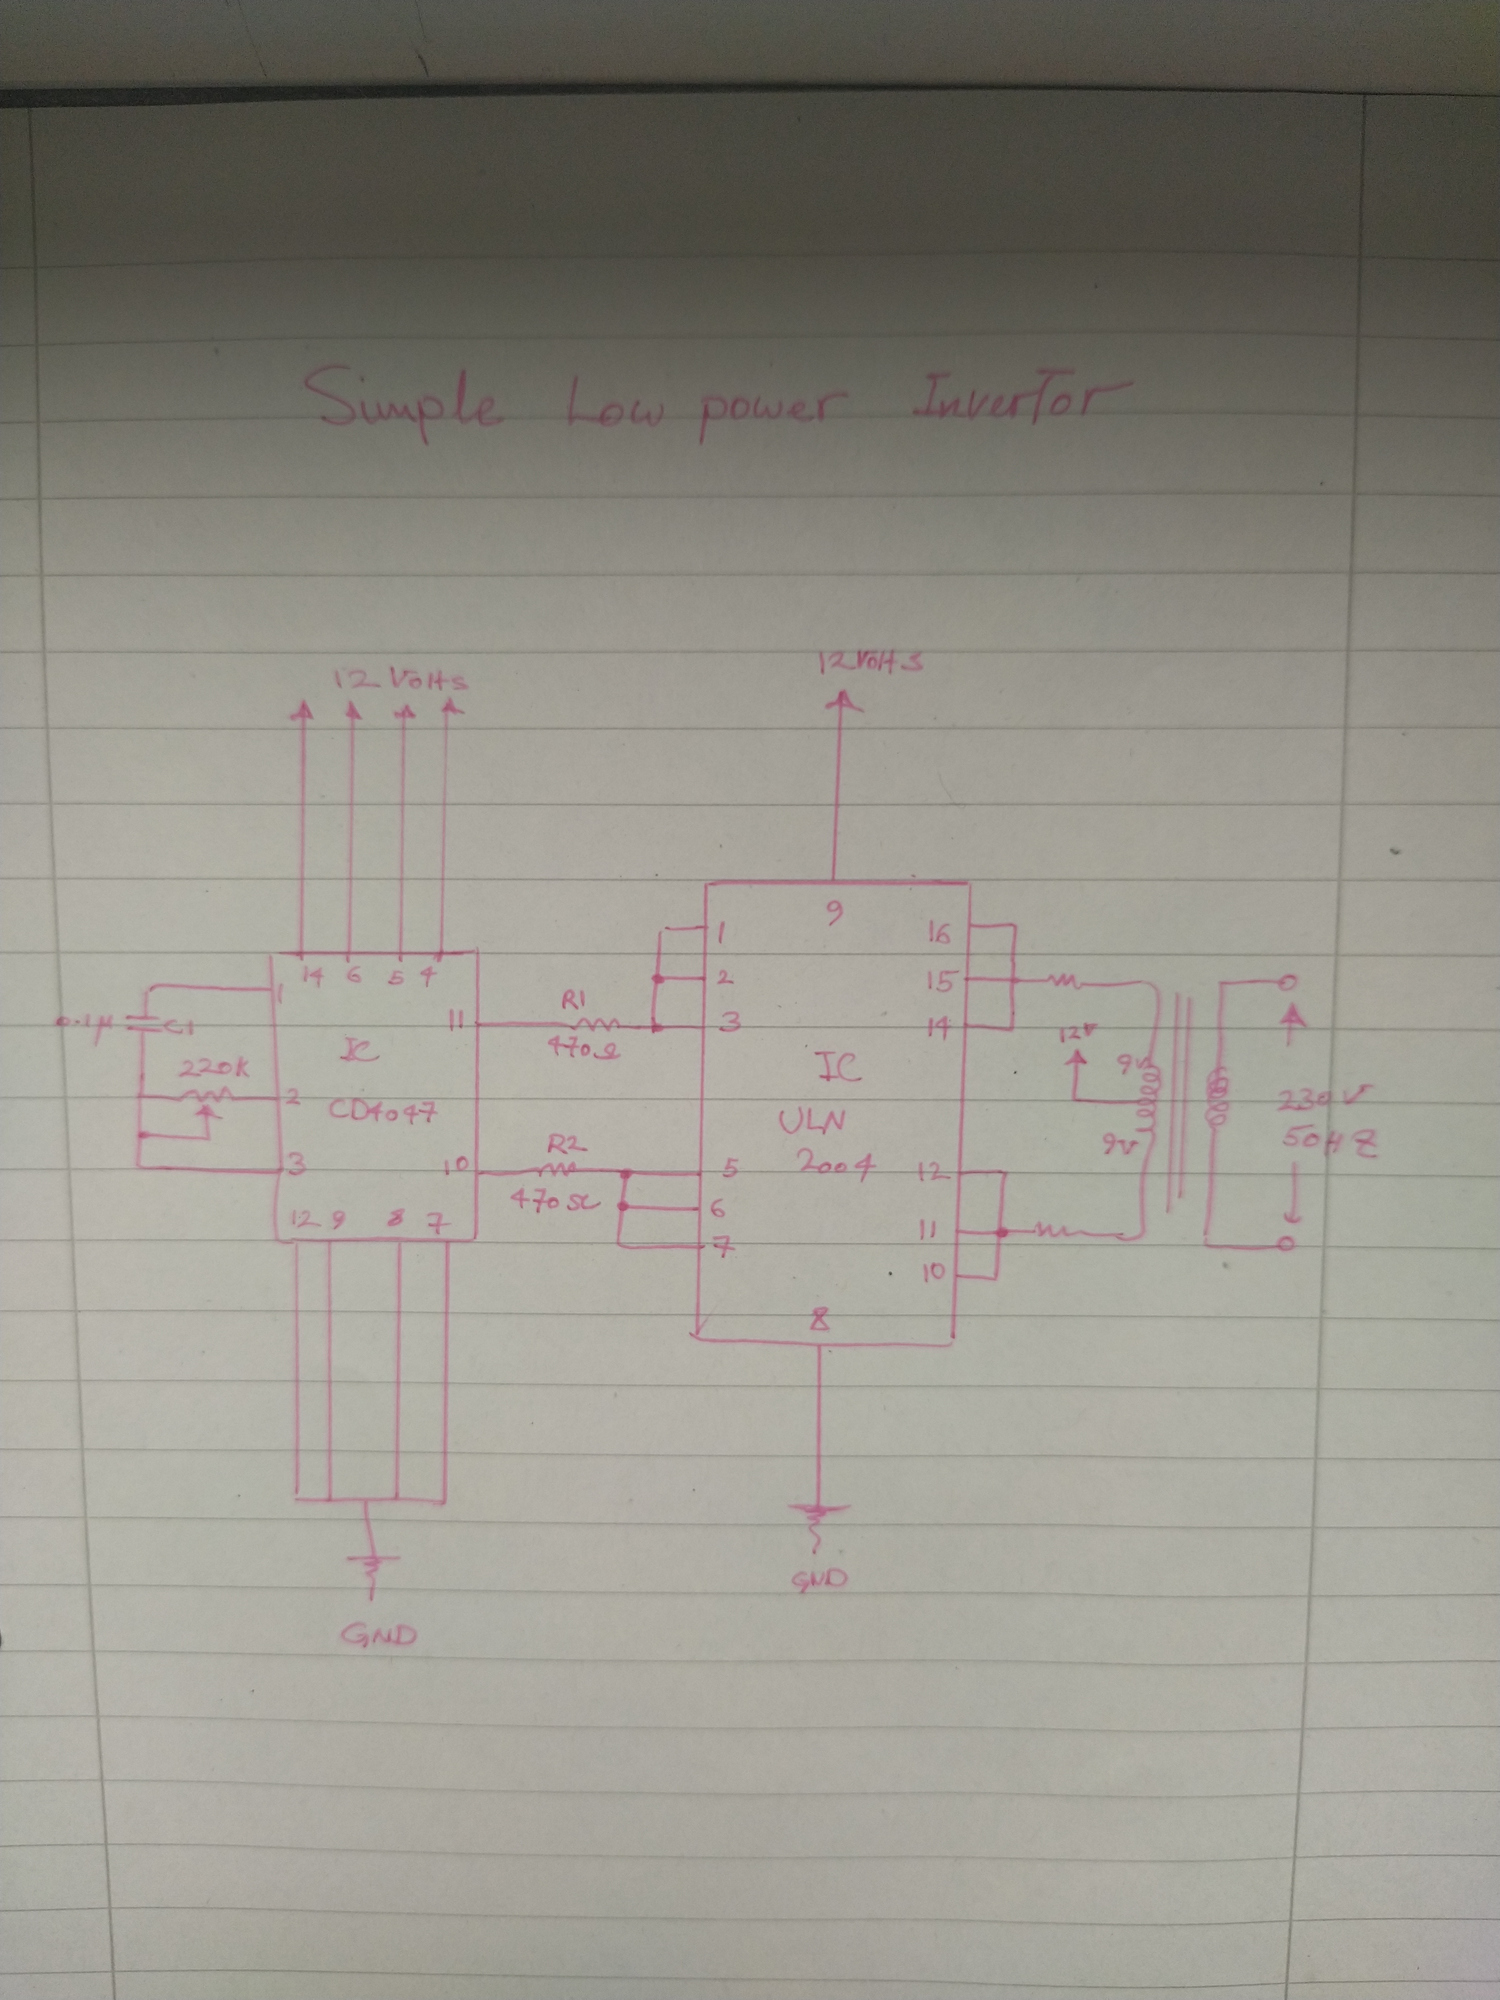capacitor.unpolarized: (121, 1013, 164, 1036)
gnd: (786, 1499, 852, 1557), (343, 1553, 402, 1605)
integrated_circuit: (685, 876, 975, 1356), (263, 945, 487, 1250)
junction: (1114, 1227, 1152, 1247), (1197, 1231, 1220, 1254), (1141, 975, 1164, 995), (646, 1017, 668, 1036), (140, 980, 161, 998), (132, 1126, 154, 1142), (618, 1165, 637, 1183), (614, 1197, 633, 1214), (986, 1268, 1004, 1287), (991, 1224, 1012, 1239), (1213, 973, 1231, 991), (651, 972, 670, 987), (1002, 1020, 1019, 1036), (435, 1494, 454, 1509), (1005, 973, 1024, 987), (132, 1157, 148, 1173), (321, 1491, 337, 1507), (613, 1236, 629, 1252), (1005, 920, 1023, 934), (994, 1165, 1012, 1180), (391, 1491, 407, 1506), (291, 1488, 304, 1506), (655, 923, 670, 937), (199, 1132, 216, 1143), (359, 1493, 373, 1506), (1068, 1093, 1082, 1106), (136, 1090, 148, 1102)
resistor: (1027, 1219, 1090, 1243), (561, 1014, 622, 1035), (533, 1159, 580, 1180), (1043, 972, 1086, 992)
resistor.adjustable: (176, 1083, 241, 1121)
terminal: (1272, 972, 1301, 994), (1272, 1235, 1297, 1255)
text: (296, 357, 1138, 449), (332, 663, 471, 694), (1279, 1120, 1380, 1162), (816, 646, 928, 677), (326, 1094, 440, 1124), (1275, 1080, 1376, 1113), (796, 1145, 878, 1184), (507, 1184, 603, 1216), (339, 1617, 419, 1650), (547, 1031, 624, 1063), (777, 1104, 849, 1137), (55, 1009, 115, 1047), (811, 1047, 865, 1085), (176, 1055, 254, 1080), (789, 1565, 849, 1595), (337, 1035, 381, 1065), (544, 1131, 589, 1156), (1100, 1131, 1141, 1157), (1057, 1020, 1100, 1046), (923, 967, 963, 994), (915, 1157, 955, 1184), (923, 1013, 955, 1043), (1114, 1050, 1147, 1077), (709, 1231, 737, 1261), (715, 1008, 744, 1036), (925, 917, 953, 945), (807, 1304, 834, 1334), (162, 1016, 199, 1038), (288, 1206, 325, 1228), (424, 1208, 452, 1235), (822, 898, 848, 928), (441, 1153, 471, 1178), (287, 1146, 310, 1178), (301, 964, 328, 991), (559, 987, 588, 1013), (915, 1216, 941, 1243), (446, 1006, 470, 1035), (718, 1154, 742, 1180), (922, 1260, 947, 1283), (284, 1083, 306, 1109), (714, 965, 737, 987), (418, 964, 440, 987), (343, 964, 366, 987), (384, 1205, 407, 1228), (709, 1195, 728, 1220), (714, 917, 730, 946), (388, 967, 408, 987), (329, 1208, 347, 1231), (276, 980, 288, 1006)
transformer: (1131, 991, 1234, 1216)
vss: (822, 687, 870, 717), (287, 698, 318, 724), (340, 698, 366, 723), (440, 694, 468, 717), (1060, 1047, 1089, 1068), (391, 702, 419, 721)
